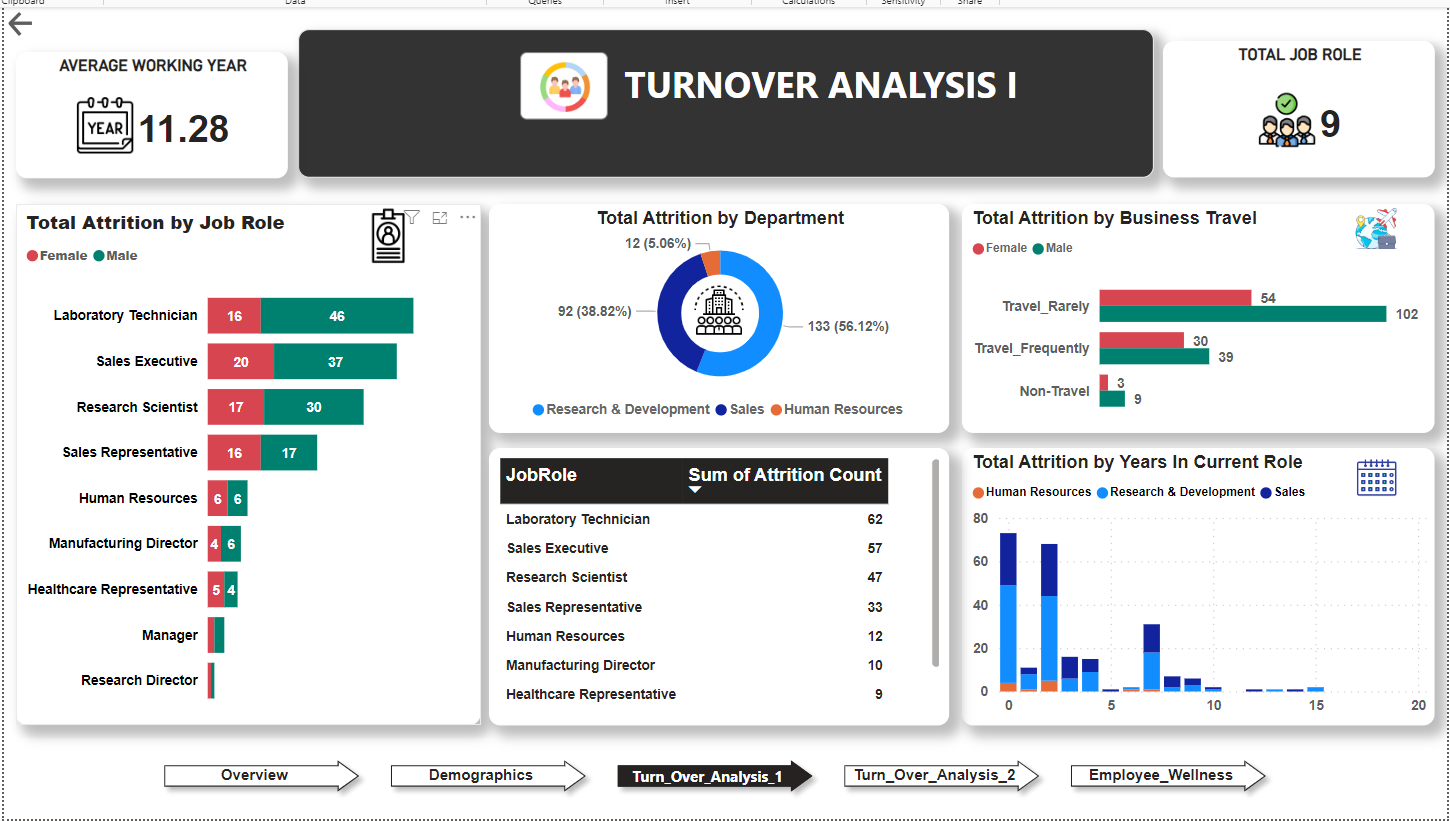

Layout of this report page (visuals, bound fields, positions):
{"tool":"powerbi","page":{"name":"Turn_Over_Analysis_1","canvas":[1280,720],"ordinal":2},"visuals":[{"type":"textbox","box":[260.7,19.5,759,132.1],"z":0},{"type":"image","box":[457.9,40.3,77.8,60.5],"z":1000},{"type":"cardVisual","title":"AVERAGE WORKING YEAR","fields":{"Data":["Avg(HR-Employee-Attrition.TotalWorkingYears)"]},"box":[10.6,39.9,241.2,111.7],"z":2000},{"type":"cardVisual","title":"TOTAL JOB ROLE ","fields":{"Data":["Count(HR-Employee-Attrition.JobRole)"]},"box":[1027.7,30.1,241.2,121.5],"z":3000},{"type":"barChart","title":"Total Attrition by Job Role","fields":{"Category":["HR-Employee-Attrition.JobRole"],"Y":["Sum(HR-Employee-Attrition.Attrition Count)"],"Series":["HR-Employee-Attrition.Gender"]},"box":[10.6,174.7,412.3,462],"z":4000},{"type":"image","box":[306.8,172.9,66.5,60.3],"z":5000},{"type":"donutChart","title":"Total Attrition by Department","fields":{"Category":["HR-Employee-Attrition.Department"],"Y":["Sum(HR-Employee-Attrition.Attrition Count)"]},"box":[430,174.7,407.9,203.1],"z":6000},{"type":"image","box":[606.5,240.3,55,56.7],"z":7000},{"type":"clusteredBarChart","title":"Total Attrition by Business Travel","fields":{"Y":["Sum(HR-Employee-Attrition.Attrition Count)"],"Category":["HR-Employee-Attrition.BusinessTravel"],"Series":["HR-Employee-Attrition.Gender"]},"box":[849.5,174.7,419.4,203.1],"z":8000},{"type":"image","box":[1187.3,172.9,58.5,47],"z":9000},{"type":"columnChart","title":"Total Attrition by Years In Current Role","fields":{"Category":["HR-Employee-Attrition.YearsInCurrentRole"],"Y":["Sum(HR-Employee-Attrition.Attrition Count)"],"Series":["HR-Employee-Attrition.Department"]},"box":[849.5,391,419.4,245.6],"z":10000},{"type":"image","box":[1180.2,391,72.7,49.7],"z":11000},{"type":"tableEx","fields":{"Values":["HR-Employee-Attrition.JobRole","HR-Employee-Attrition.Attrition Count"]},"box":[430,391,407.9,245.6],"z":12000},{"type":"pageNavigator","box":[133,658.8,998.4,46.1],"z":13000},{"type":"actionButton","box":[0,0,69.2,30.1],"z":14000}]}

Visuals, with their boxes on the page's 1280x720 design canvas (x1, y1, x2, y2). These are canvas units, not pixel positions in the 1450x821 screenshot, which may show the page scaled, cropped or inside an application window:
textbox: [261, 20, 1020, 152]
image: [458, 40, 536, 101]
"AVERAGE WORKING YEAR" cardVisual: [11, 40, 252, 152]
"TOTAL JOB ROLE " cardVisual: [1028, 30, 1269, 152]
"Total Attrition by Job Role" barChart: [11, 175, 423, 637]
image: [307, 173, 373, 233]
"Total Attrition by Department" donutChart: [430, 175, 838, 378]
image: [606, 240, 662, 297]
"Total Attrition by Business Travel" clusteredBarChart: [850, 175, 1269, 378]
image: [1187, 173, 1246, 220]
"Total Attrition by Years In Current Role" columnChart: [850, 391, 1269, 637]
image: [1180, 391, 1253, 441]
tableEx - HR-Employee-Attrition.JobRole x HR-Employee-Attrition.Attrition Count: [430, 391, 838, 637]
pageNavigator: [133, 659, 1131, 705]
actionButton: [0, 0, 69, 30]
